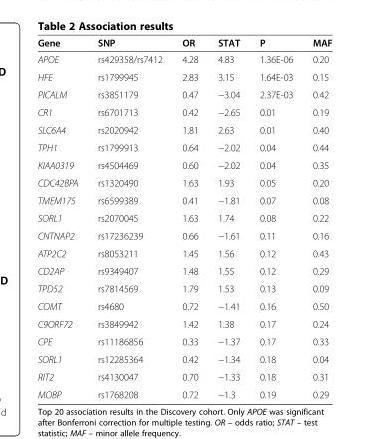table: (36, 36, 331, 399)
table column: (87, 36, 171, 399), (249, 36, 302, 399), (36, 36, 87, 399), (207, 36, 249, 399), (171, 36, 207, 399), (302, 36, 331, 399)
table column header: (36, 36, 331, 50)
table row: (36, 67, 331, 85), (36, 102, 331, 120), (36, 120, 331, 138), (36, 155, 331, 173), (36, 173, 331, 191), (36, 208, 331, 226), (36, 226, 331, 244), (36, 261, 331, 279), (36, 296, 331, 314), (36, 314, 331, 332), (36, 349, 331, 367), (36, 367, 331, 385), (36, 50, 331, 67), (36, 85, 331, 102), (36, 138, 331, 155), (36, 191, 331, 208), (36, 244, 331, 261), (36, 279, 331, 296), (36, 332, 331, 349), (36, 36, 331, 50), (36, 385, 331, 399)
